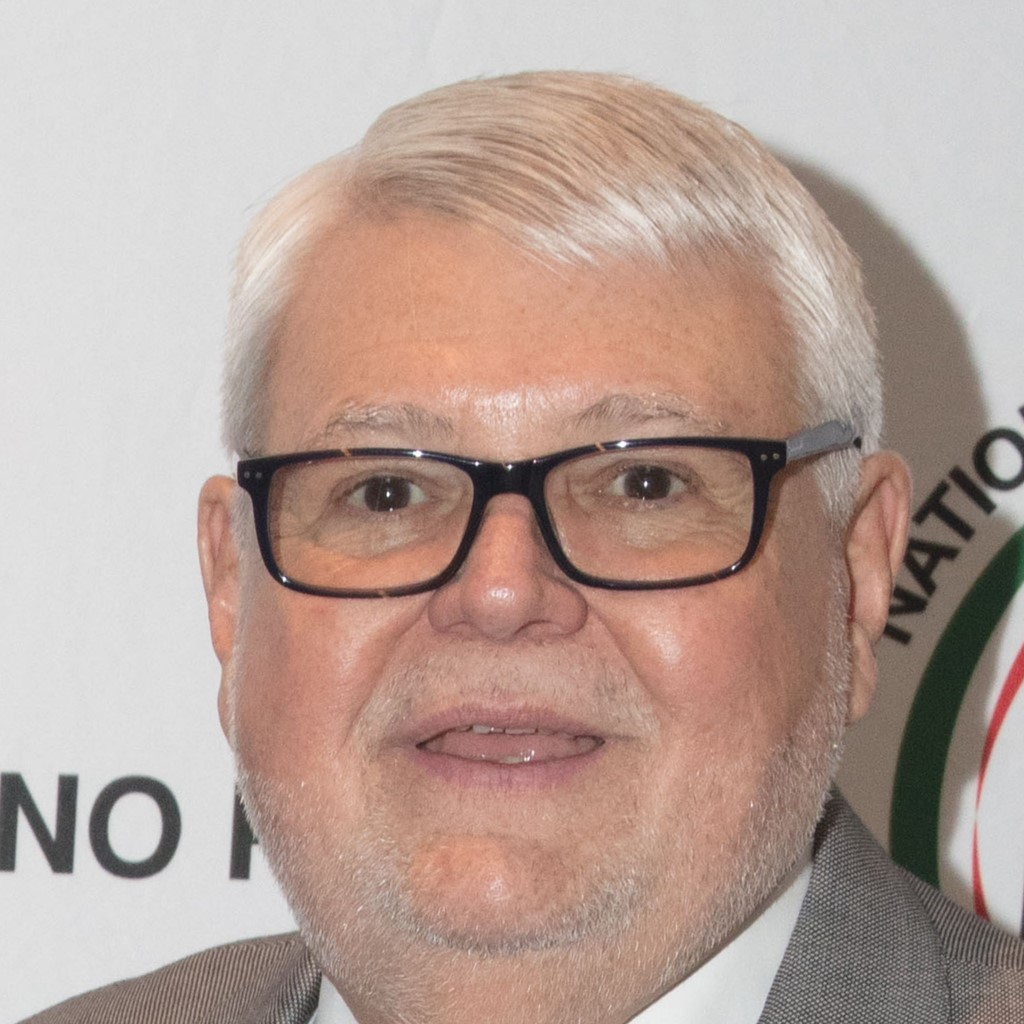sin_mascara: (218, 198, 856, 967)
